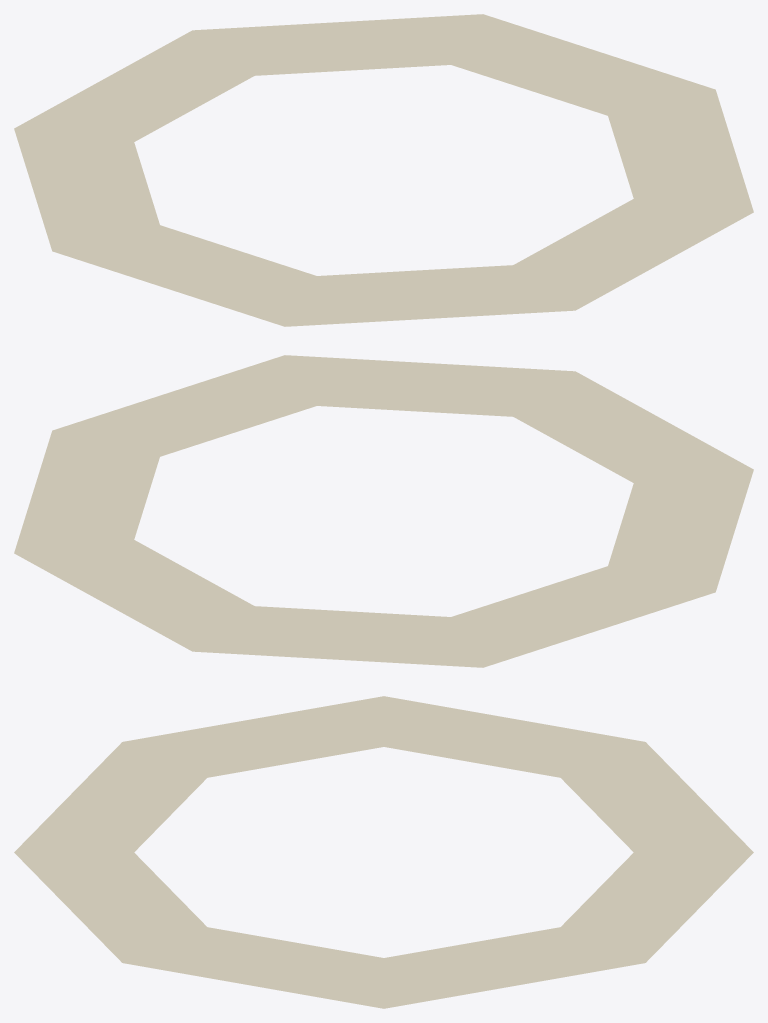
The model's file is Ring.gltf.
3 views of the same model, one above another, from view 1: azimuth 30°, elevation 25°; view 2: azimuth 150°, elevation 25°; view 3: azimuth 270°, elevation 25° (orthographic). The views are drawn at different scales.
Visible parts, largest first — view 1: Ring; view 2: Ring; view 3: Ring.
Boxes of the visible parts, box(x1,y1,x2,y2) form: Ring: box(14, 14, 753, 326); Ring: box(14, 355, 753, 667); Ring: box(14, 696, 753, 1008).
Size of the model in its own units: 4 by 0 by 4.
